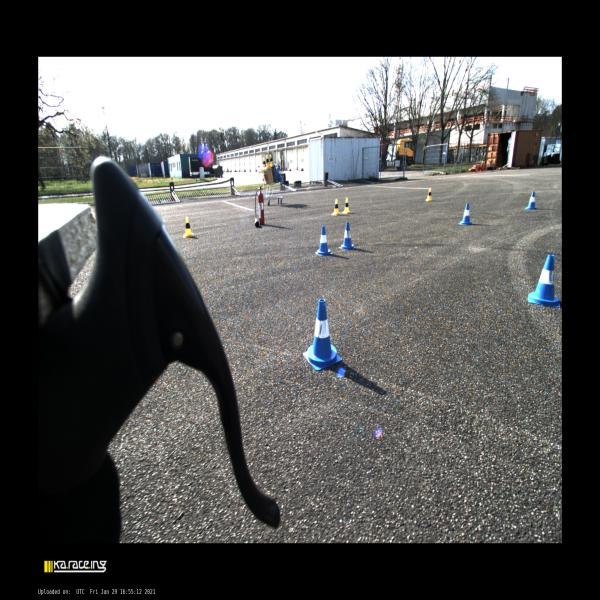blue_cone: (302, 298, 342, 370), (528, 254, 560, 308), (315, 226, 333, 256), (339, 222, 356, 250), (458, 203, 474, 225), (525, 192, 537, 210), (278, 167, 282, 178)
yellow_cone: (184, 216, 194, 238), (332, 199, 340, 215), (342, 198, 350, 214), (426, 188, 432, 201), (266, 154, 271, 168), (270, 154, 275, 167), (262, 158, 266, 168)
